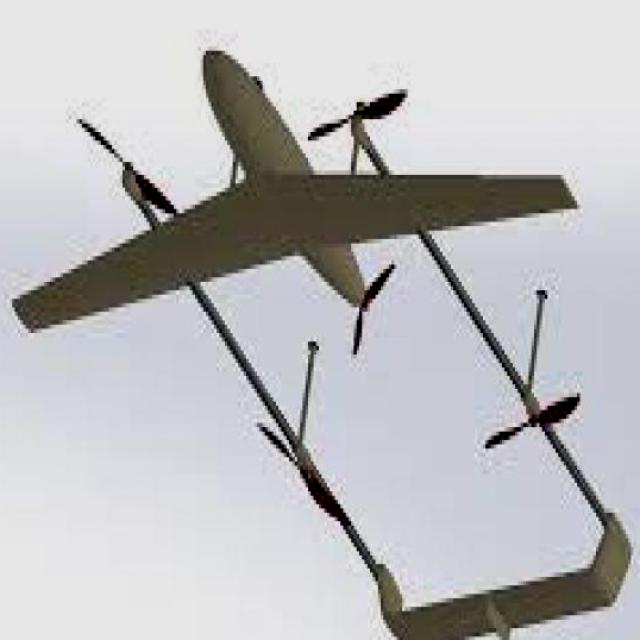plane: (11, 49, 636, 640)
